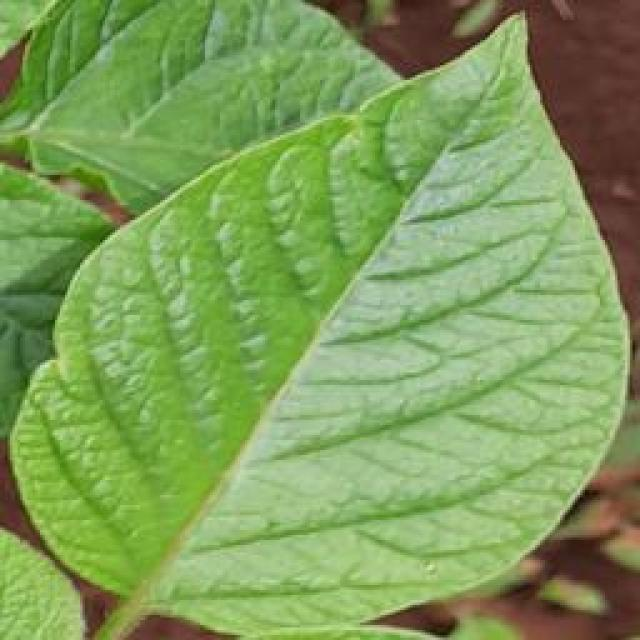healthy: (5, 8, 635, 638)
